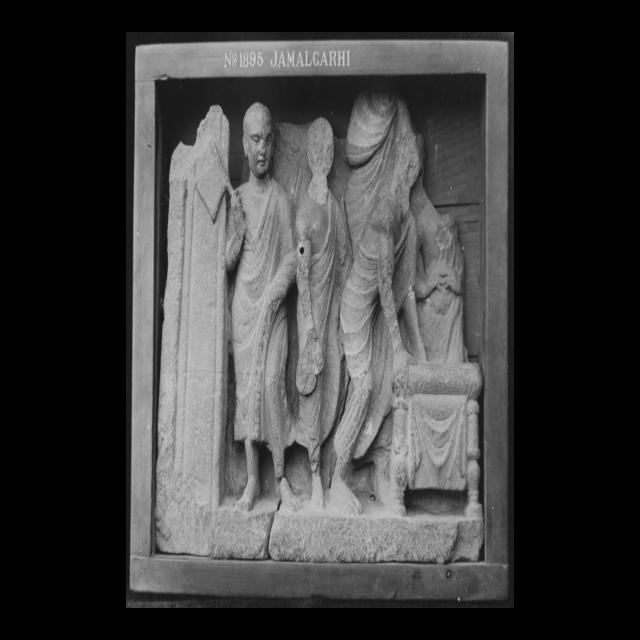buddha-sitting: (392, 215, 482, 518)
